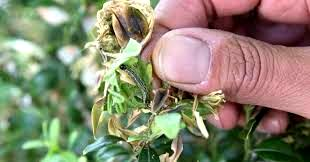Caterpillar: (118, 57, 153, 108)
